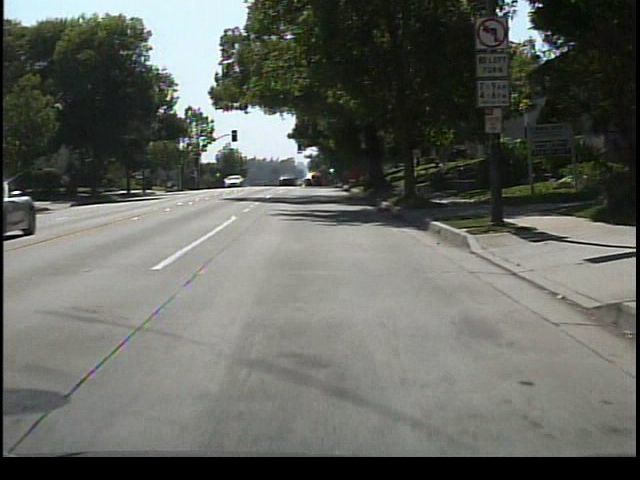person: (430, 155, 451, 192)
